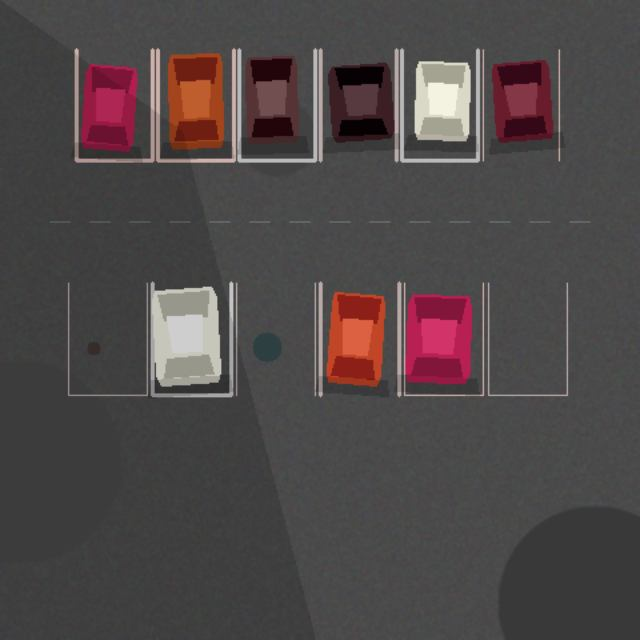space-empty: (68, 283, 147, 395), (236, 283, 315, 395), (488, 283, 567, 395)
space-occupied: (152, 283, 231, 395), (320, 283, 399, 395), (404, 283, 483, 395), (76, 49, 152, 160), (157, 49, 233, 160), (239, 49, 315, 160), (320, 49, 396, 160), (401, 49, 477, 160), (483, 49, 559, 160)
